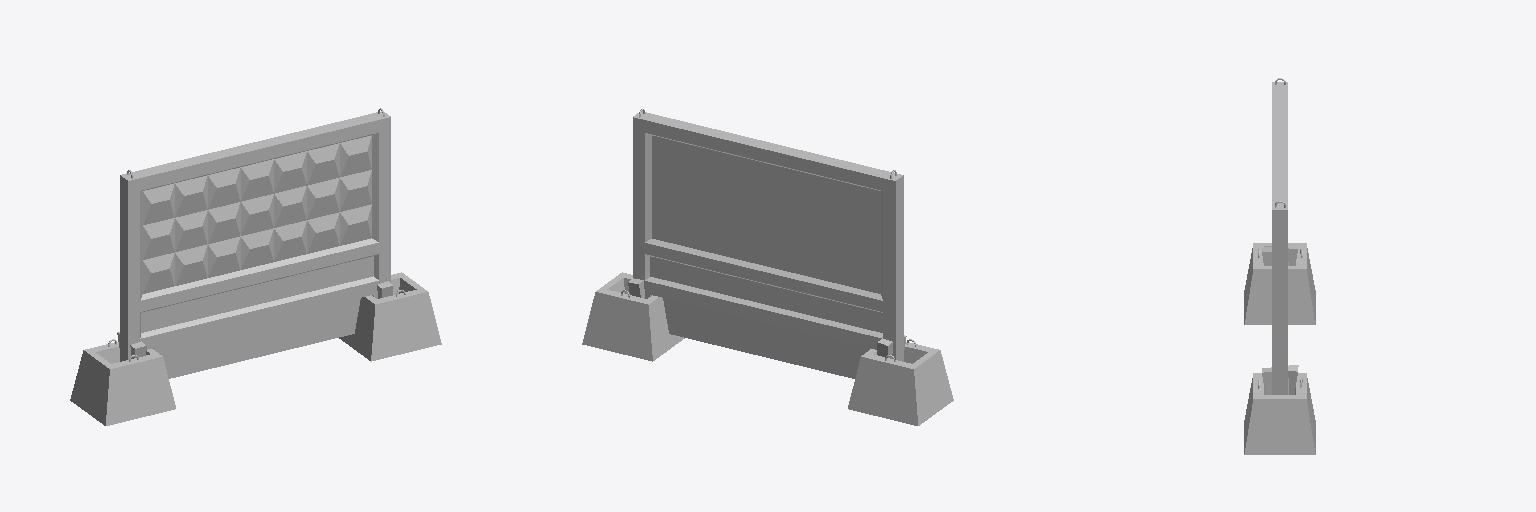
Rendered from Fence.obj.
3 renders of one model, left to right at view 1: azimuth 30°, elevation 25°; view 2: azimuth 150°, elevation 25°; view 3: azimuth 270°, elevation 25°, orthographic.
Parts seen in each view (by area): view 1: Fence_Cube.043, Fence_Base_01_Cube.002, Fence_Base_02_Cube.001; view 2: Fence_Cube.043, Fence_Base_01_Cube.002, Fence_Base_02_Cube.001; view 3: Fence_Base_02_Cube.001, Fence_Cube.043, Fence_Base_01_Cube.002.
Boxes of the visible parts, box(x1,y1,x2,y2) form: Fence_Cube.043: box(120, 108, 390, 378); Fence_Base_01_Cube.002: box(70, 332, 175, 425); Fence_Base_02_Cube.001: box(339, 272, 441, 361); Fence_Cube.043: box(633, 109, 903, 378); Fence_Base_01_Cube.002: box(848, 335, 953, 425); Fence_Base_02_Cube.001: box(582, 272, 684, 361); Fence_Base_02_Cube.001: box(1244, 365, 1315, 454); Fence_Cube.043: box(1272, 78, 1287, 394); Fence_Base_01_Cube.002: box(1244, 243, 1315, 324).
Bounding box in the file's own units: 4.47 × 2.96 × 0.8172.